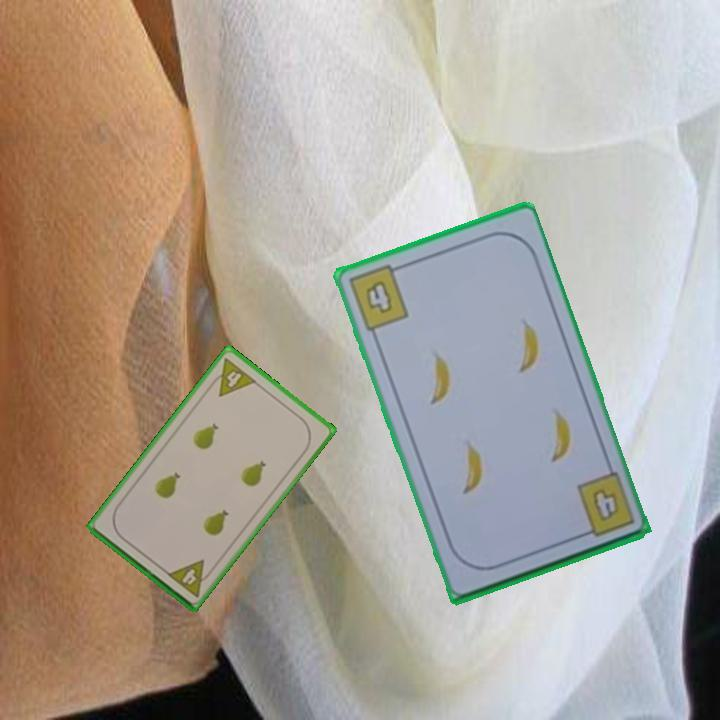4b: (344, 260, 412, 334), (572, 468, 638, 541)
4p: (205, 354, 259, 399), (163, 556, 216, 600)
